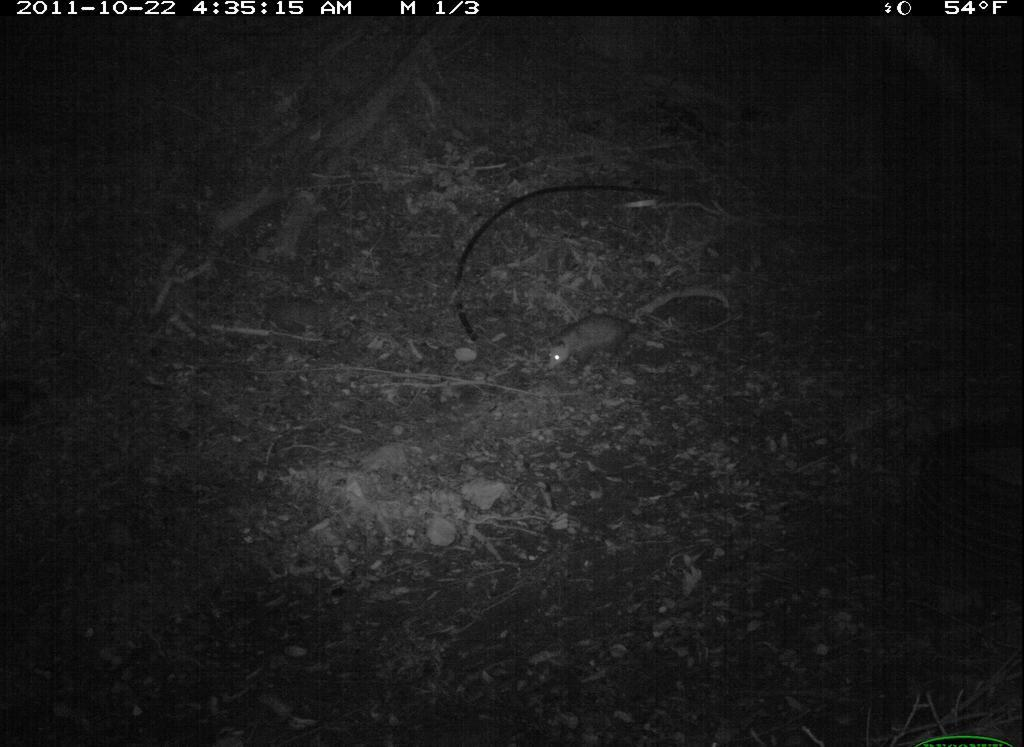opossum: (538, 308, 688, 382)
